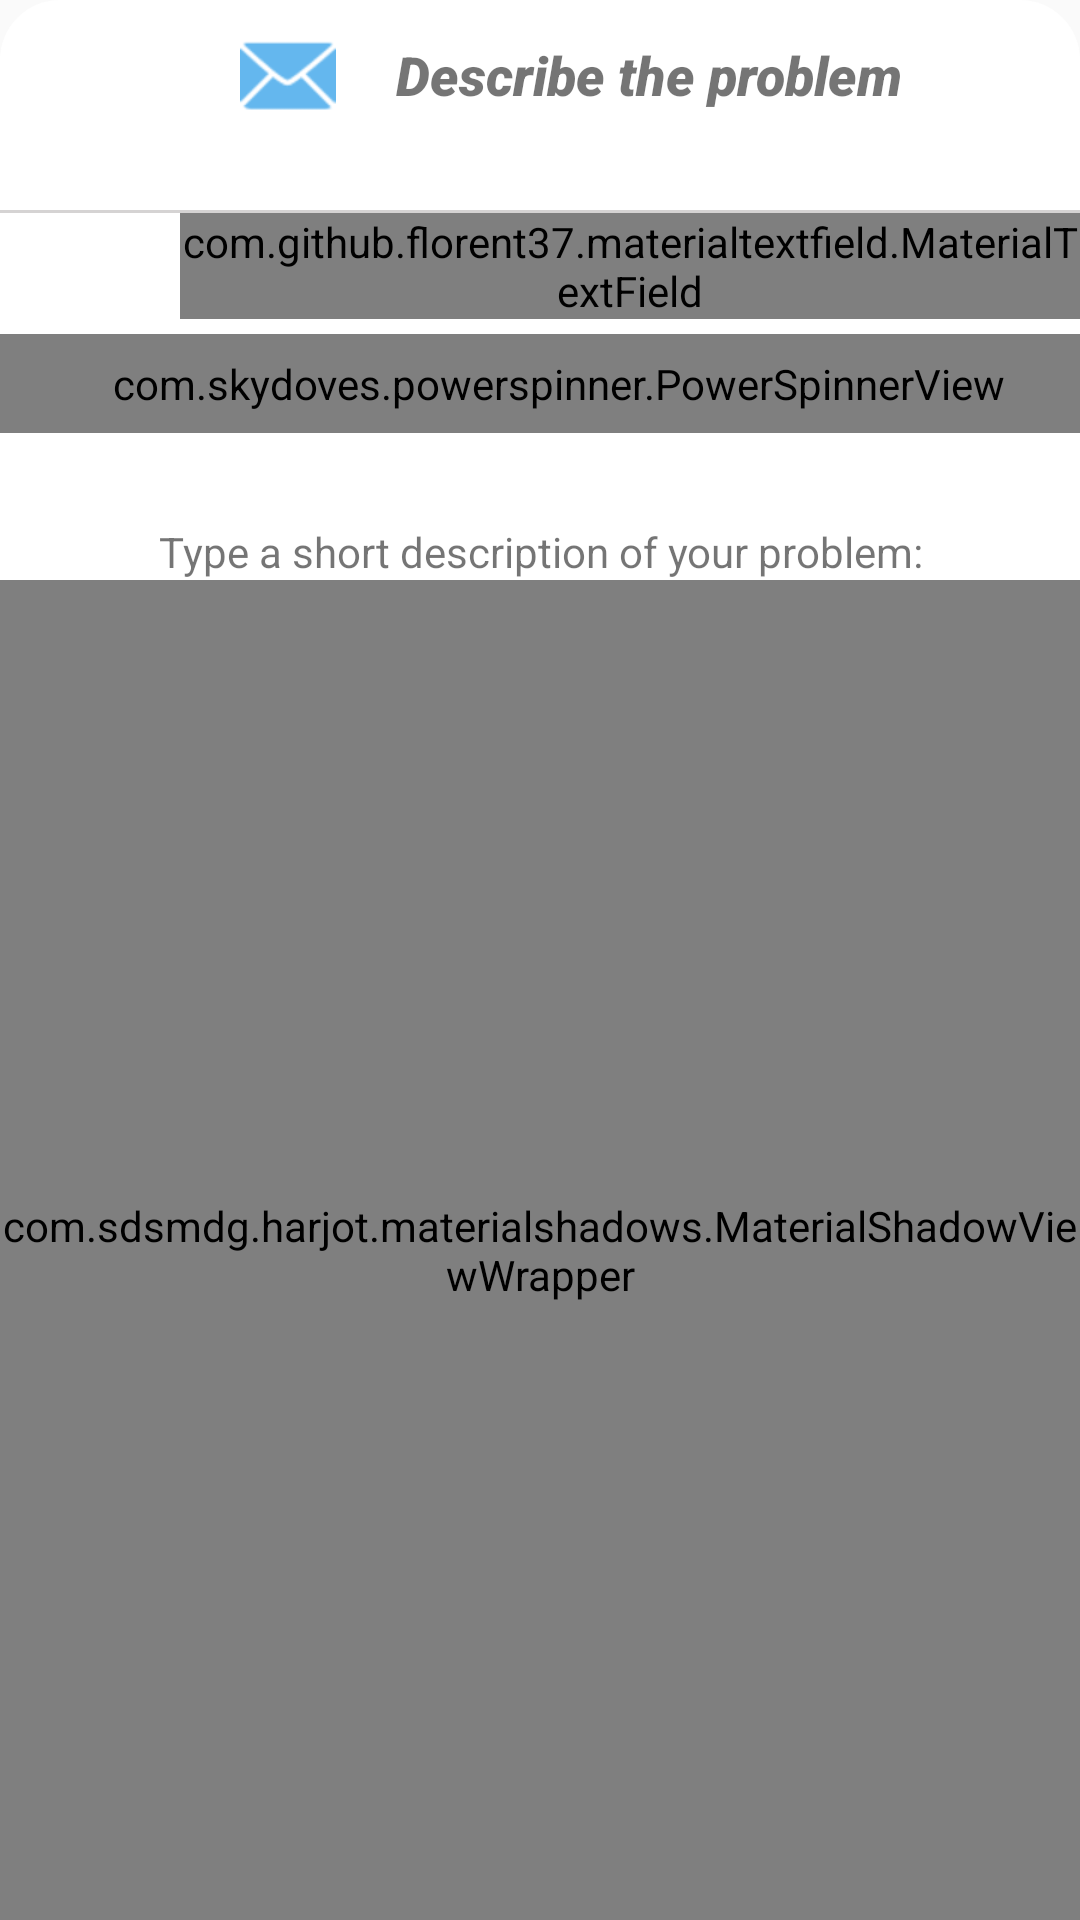

Locate icon controls on the screen. Image size 1080w x 1920h, boxes as [x1, y1, x2, y2].
email: [240, 42, 336, 110]
